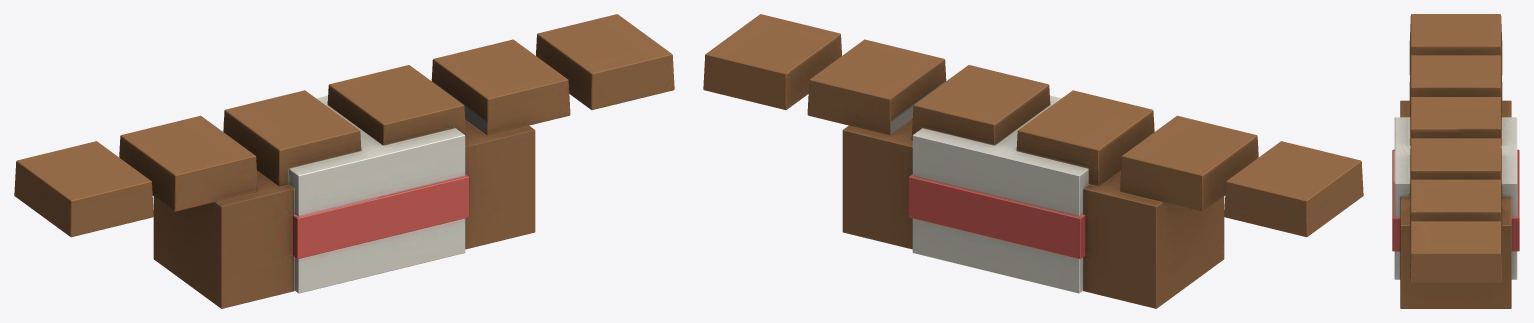
File: IT_chocolate.glb
The picture shows the model from 3 angles, left to right: view 1: azimuth 30°, elevation 25°; view 2: azimuth 150°, elevation 25°; view 3: azimuth 270°, elevation 25°; orthographic projection. The views are drawn at different scales.
Visible parts, largest first — view 1: IT_chocolate; view 2: IT_chocolate; view 3: IT_chocolate.
Boxes of the visible parts, left/top/right/bottom form: IT_chocolate: left=14, top=14, right=674, bottom=308; IT_chocolate: left=703, top=14, right=1363, bottom=308; IT_chocolate: left=1392, top=14, right=1519, bottom=308.
Size of the model in its own units: 1.23 by 0.27 by 0.275.
Materials: 1 (1 with a texture image).
